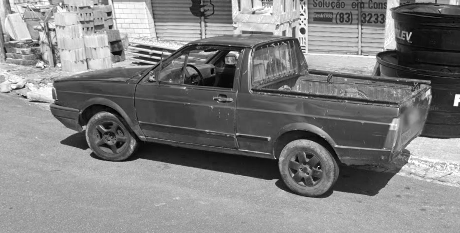car: (49, 31, 434, 201)
